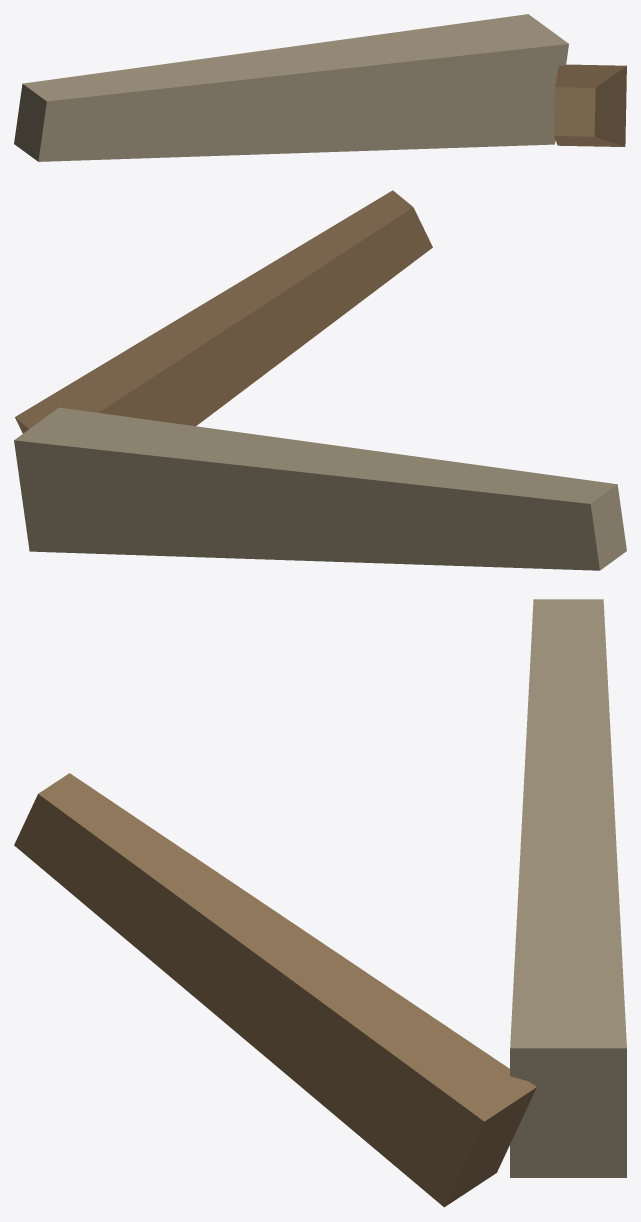
The model's file is prop_driftwood.glb.
3 renders of one model, top to bottom at view 1: azimuth 30°, elevation 25°; view 2: azimuth 150°, elevation 25°; view 3: azimuth 270°, elevation 25°, orthographic. The views are drawn at different scales.
Parts seen in each view (by area): view 1: prop_driftwood; view 2: prop_driftwood; view 3: prop_driftwood.
Boxes of the visible parts, x1,y1,x2,y2 form: prop_driftwood: (14, 14, 626, 161); prop_driftwood: (14, 190, 626, 570); prop_driftwood: (14, 599, 626, 1207).
Bounding box in the file's own units: 0.4863 × 0.1685 × 0.3147.
